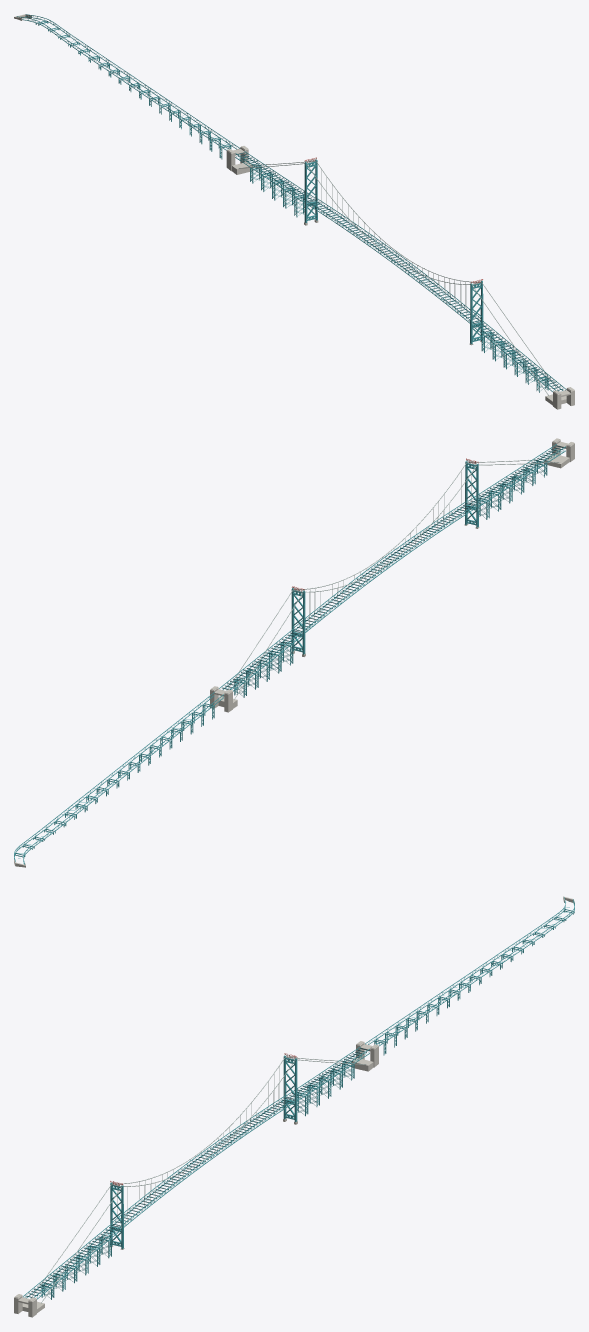
Rendered from det-ambassador-bridge.detail.glb.
3 renders of one model, top to bottom at view 1: azimuth 30°, elevation 25°; view 2: azimuth 150°, elevation 25°; view 3: azimuth 330°, elevation 25°, orthographic. The views are drawn at different scales.
Visible parts, largest first — view 1: Ambassador Bridge; view 2: Ambassador Bridge; view 3: Ambassador Bridge.
Boxes of the visible parts, x1,y1,x2,y2 form: Ambassador Bridge: (14,14,574,409); Ambassador Bridge: (14,438,574,867); Ambassador Bridge: (14,896,574,1317).
Bounding box in the file's own units: 53.8 × 121 × 1809.
